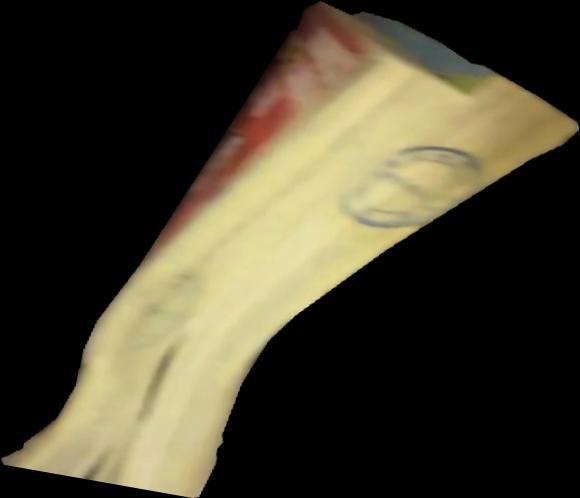backward: (1, 1, 580, 498)
